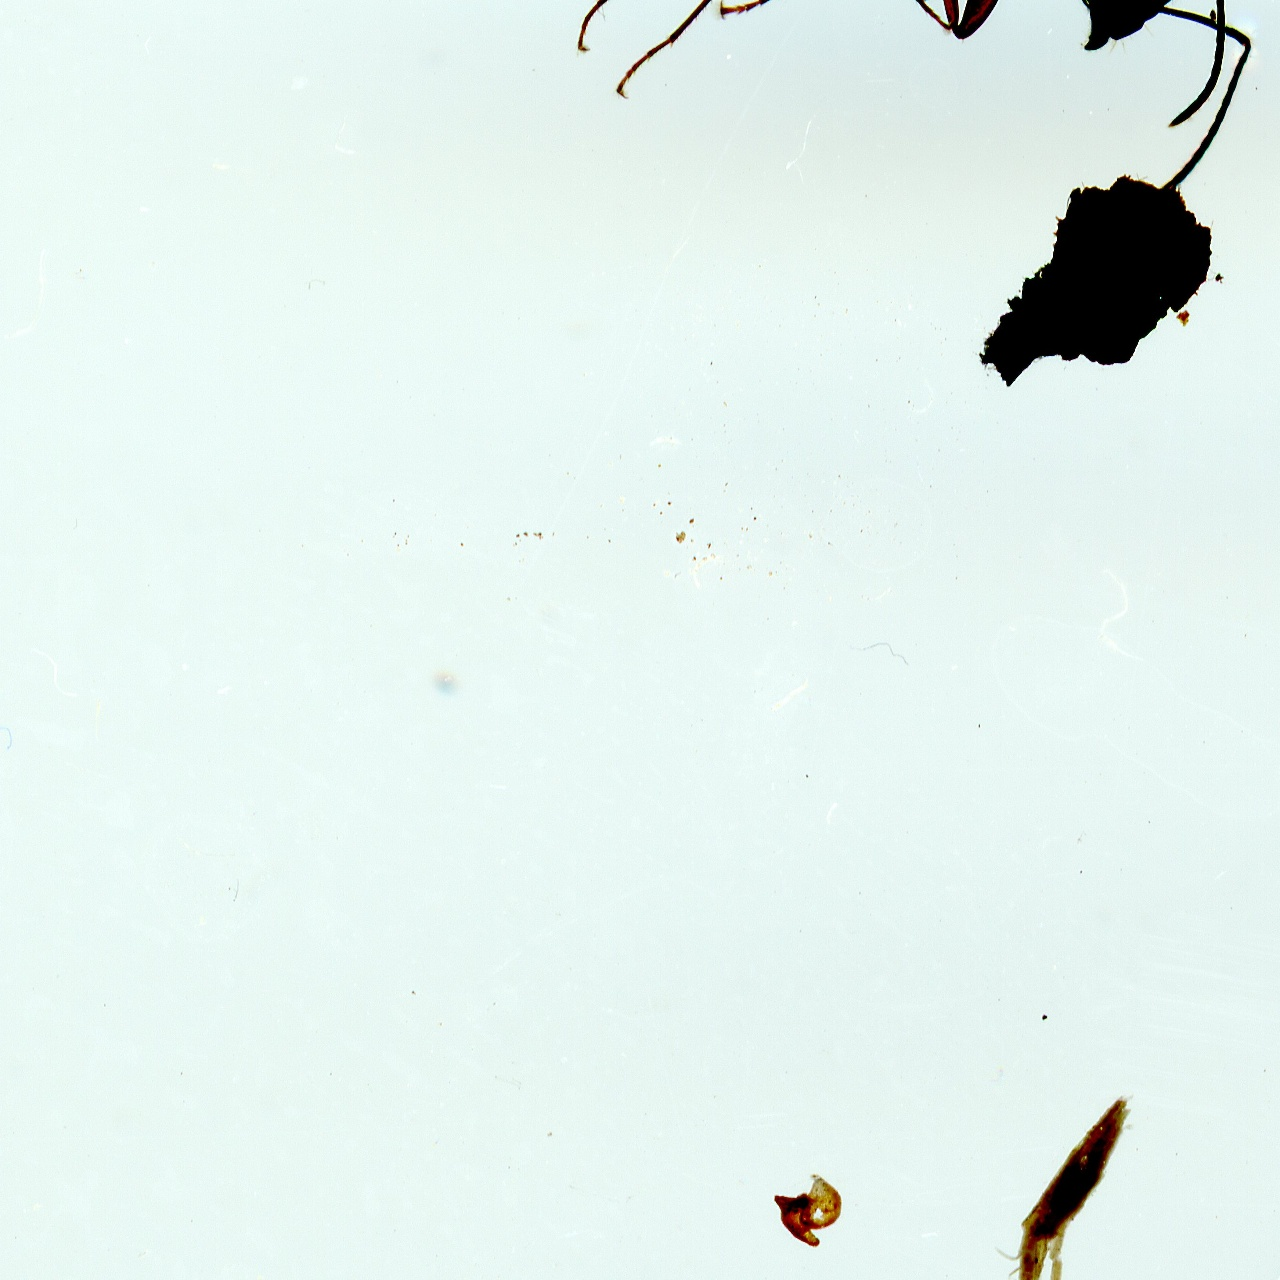arthropod: (568, 0, 1261, 189)
